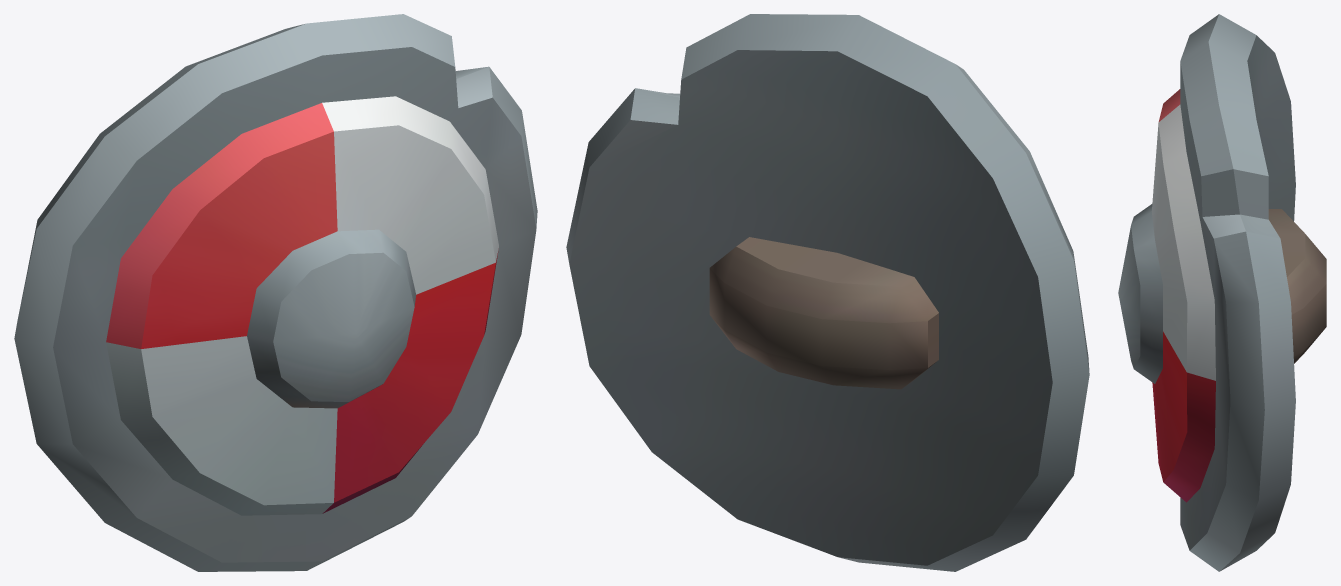
File: shield_round_color.glb
3 views of the same model, side by side, from view 1: azimuth 30°, elevation 25°; view 2: azimuth 150°, elevation 25°; view 3: azimuth 270°, elevation 25° (orthographic). The views are drawn at different scales.
Parts seen in each view (by area): view 1: shield_round_color; view 2: shield_round_color; view 3: shield_round_color.
Boxes of the visible parts, box(x1,y1,x2,y2) form: shield_round_color: box(14, 14, 537, 571); shield_round_color: box(566, 14, 1089, 571); shield_round_color: box(1118, 14, 1326, 571).
Size of the model in its own units: 0.8826 by 0.8826 by 0.332.
Materials: 1 (1 with a texture image).
